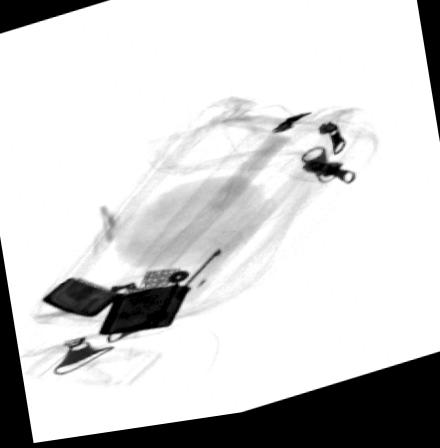Lighter: (39, 272, 191, 337)
